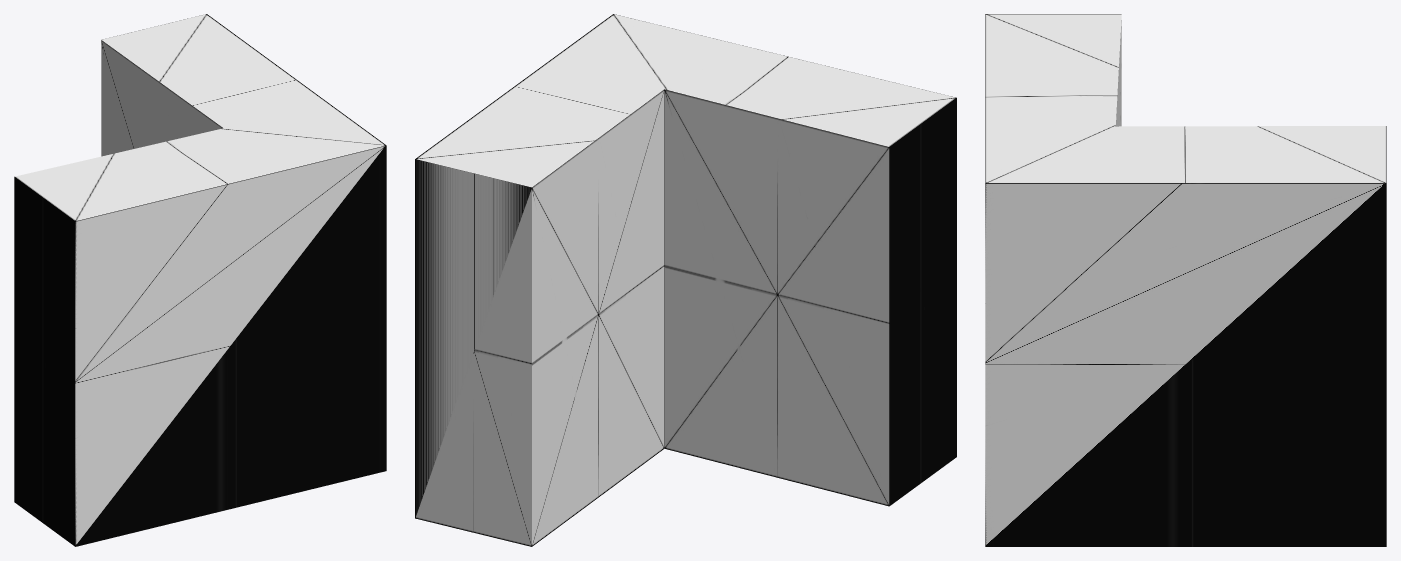
The model's file is EspacioPirateriaEsquinaCierreExteriorNS.gltf.
3 renders of one model, left to right at view 1: azimuth 30°, elevation 25°; view 2: azimuth 150°, elevation 25°; view 3: azimuth 270°, elevation 25°, orthographic. The views are drawn at different scales.
Visible parts, largest first — view 1: Cubo.22; view 2: Cubo.22; view 3: Cubo.22.
Boxes of the visible parts, <box> form: Cubo.22: <box>14,14,386,546</box>; Cubo.22: <box>415,14,956,546</box>; Cubo.22: <box>985,14,1386,546</box>.
Bounding box in the file's own units: 2 × 2 × 2.
Materials: 1 (1 with a texture image).
